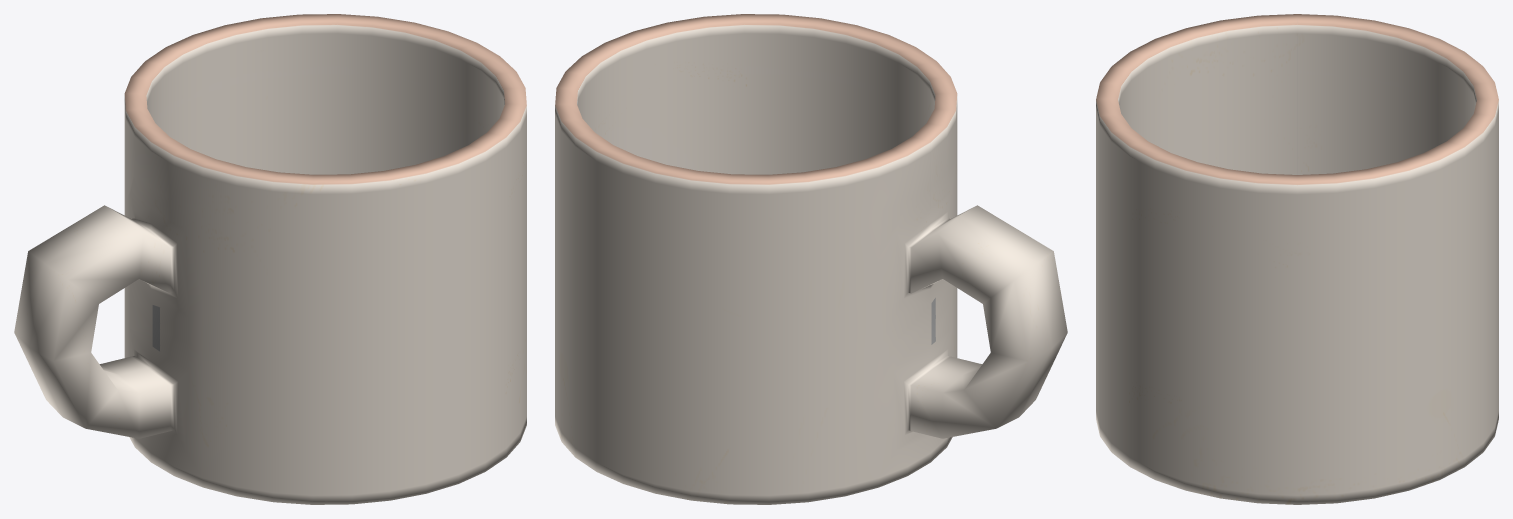
Rendered from white_mug.glb.
The picture shows the model from 3 angles, left to right: view 1: azimuth 30°, elevation 25°; view 2: azimuth 150°, elevation 25°; view 3: azimuth 270°, elevation 25°; orthographic projection.
Parts seen in each view (by area): view 1: Mug; view 2: Mug; view 3: Mug.
Boxes of the visible parts, x1,y1,x2,y2 form: Mug: (14, 14, 526, 504); Mug: (555, 14, 1067, 504); Mug: (1096, 14, 1498, 504).
Size of the model in its own units: 0.674 by 0.4393 by 0.4998.
1 material, 1 textured.
